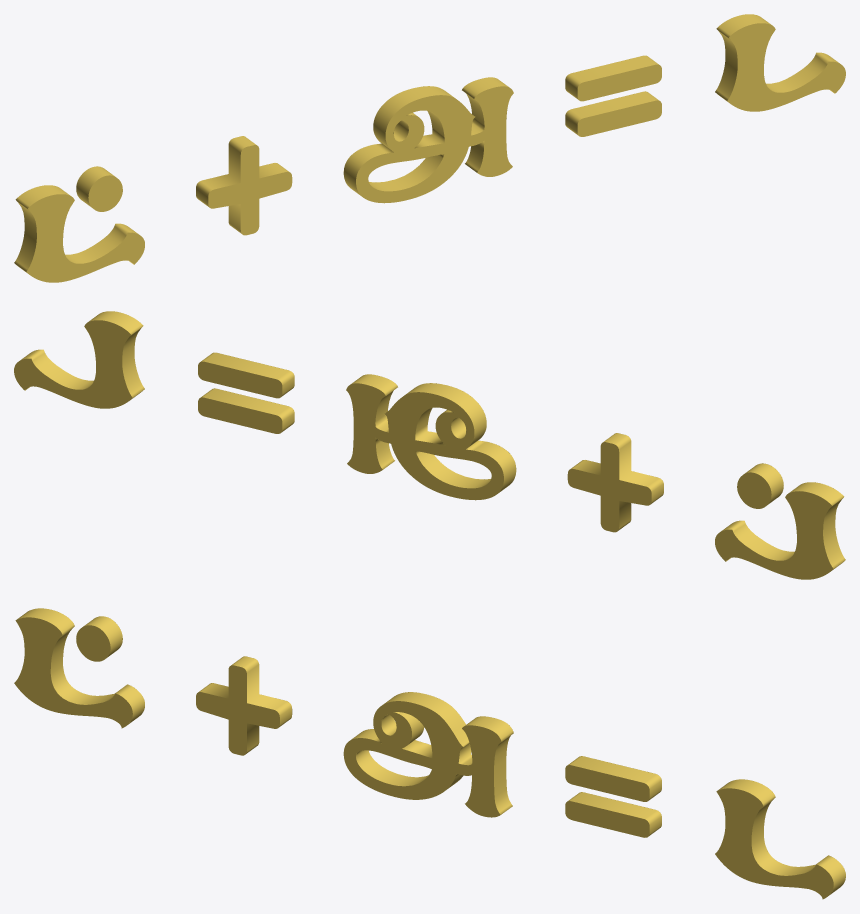
3 views of the same model, one above another, from view 1: azimuth 30°, elevation 25°; view 2: azimuth 150°, elevation 25°; view 3: azimuth 330°, elevation 25° (orthographic).
Parts seen in each view (by area): view 1: ta; view 2: ta; view 3: ta.
Part boxes in pixels (x1=…): ta: x1=14, y1=14, x2=845, y2=282; ta: x1=14, y1=311, x2=845, y2=579; ta: x1=14, y1=608, x2=845, y2=899.
Bounding box in the file's own units: 0.166 × 0.019 × 0.00431.
